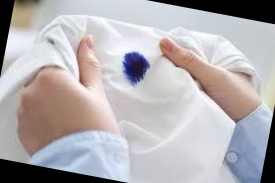ink: (121, 51, 151, 84)
